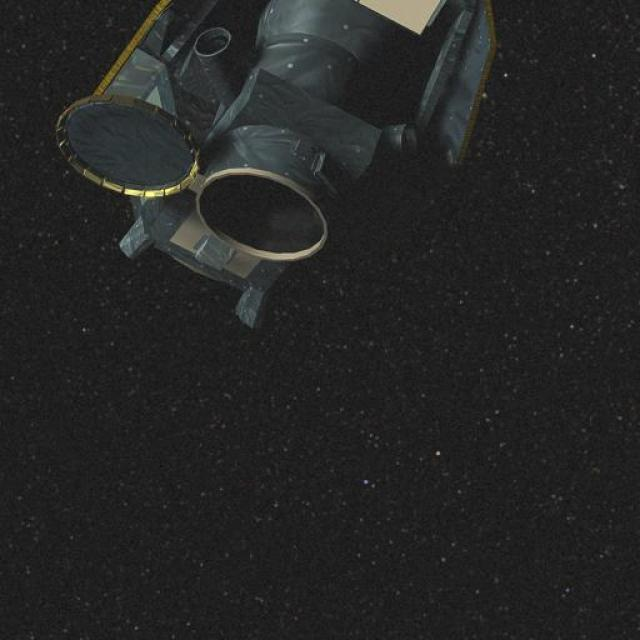cheops: (85, 0, 489, 294)
